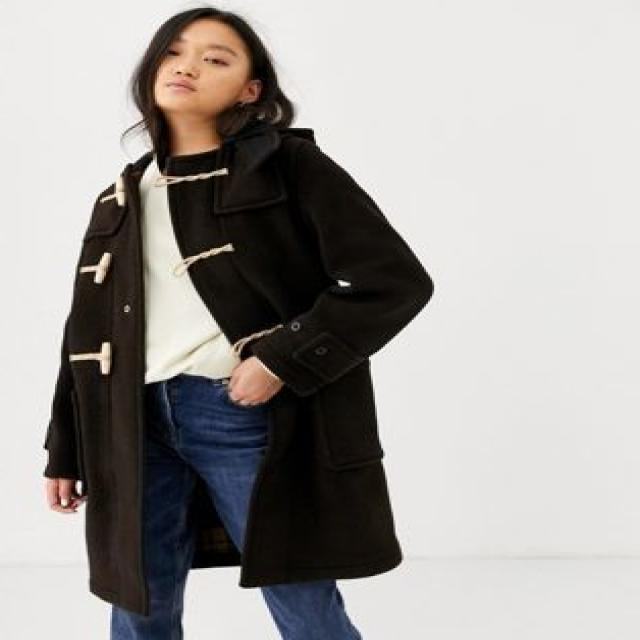coat: (40, 126, 442, 617)
short sleeve shirt: (135, 156, 243, 383)
trousers: (106, 371, 366, 639)
